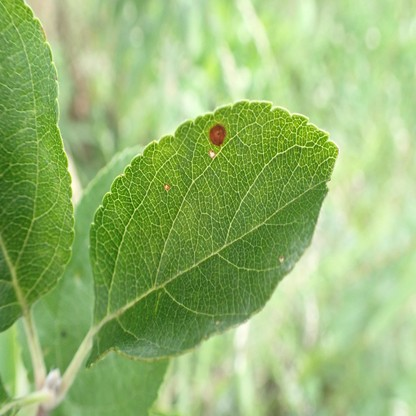frogeye: (210, 125, 226, 146)
